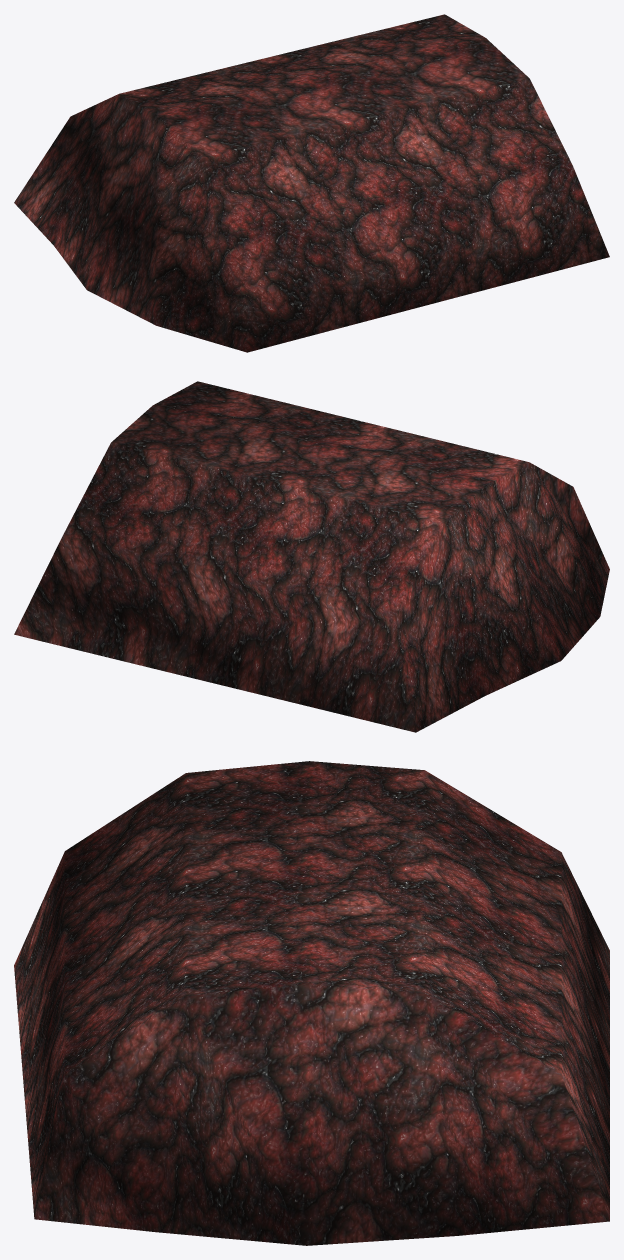
Rendered from MOD_PontoFraco.FBX.
3 renders of one model, top to bottom at view 1: azimuth 30°, elevation 25°; view 2: azimuth 150°, elevation 25°; view 3: azimuth 270°, elevation 25°, orthographic. The views are drawn at different scales.
Visible parts, largest first — view 1: Box001; view 2: Box001; view 3: Box001.
Part boxes in pixels (<box>): Box001: <box>14,14,609,352</box>; Box001: <box>14,381,609,732</box>; Box001: <box>14,761,609,1245</box>.
Bounding box in the file's own units: 32.41 × 25.58 × 10.26.
